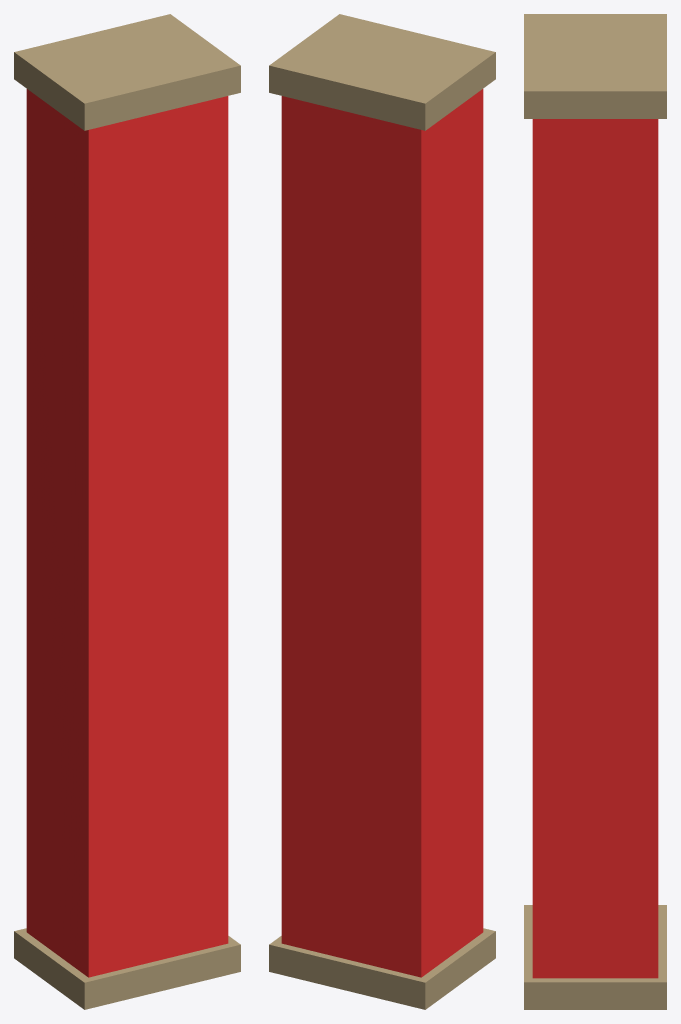
Rendered from WallBasement6_Final.fbx.
The picture shows the model from 3 angles, left to right: view 1: azimuth 30°, elevation 25°; view 2: azimuth 150°, elevation 25°; view 3: azimuth 270°, elevation 25°; orthographic projection.
Visible parts, largest first — view 1: WALL BASEMENT 6; view 2: WALL BASEMENT 6; view 3: WALL BASEMENT 6.
Part boxes in pixels (x1,y1,x2,y2): WALL BASEMENT 6: (14,14,240,1009); WALL BASEMENT 6: (269,14,495,1009); WALL BASEMENT 6: (524,14,666,1009).
Size of the model in its own units: 0.4722 by 2.62 by 0.3687.
